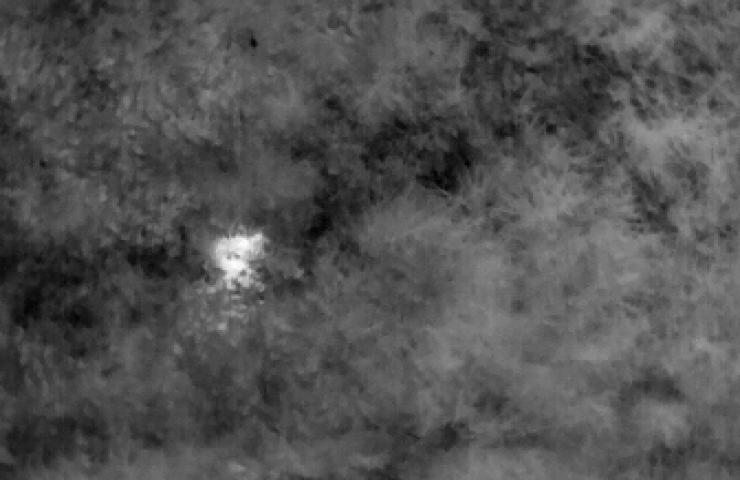landmines: (208, 229, 274, 282)
